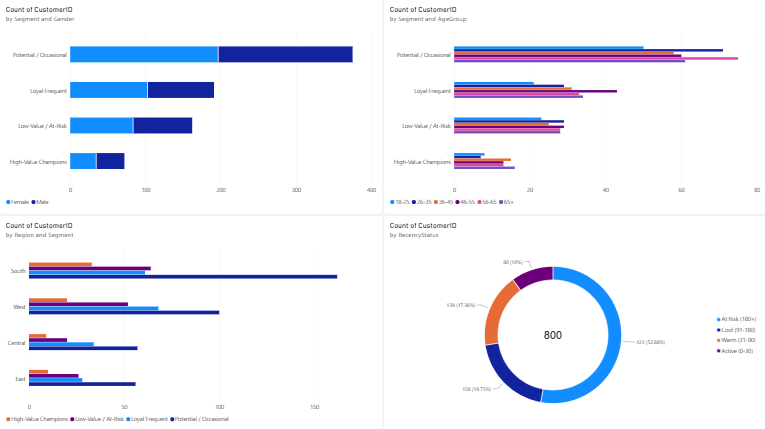

Layout of this report page (visuals, bound fields, positions):
{"tool":"powerbi","page":{"name":"Demographics & Behavior","canvas":[1920,1080],"ordinal":2},"visuals":[{"type":"barChart","fields":{"Category":["customer_segments.Segment"],"Series":["customer_segments.Gender"],"Y":["CountNonNull(customer_segments.CustomerID)"]},"box":[0,0,960,539.2],"z":0},{"type":"clusteredBarChart","fields":{"Category":["customer_segments.Segment"],"Series":["customer_segments.AgeGroup"],"Y":["CountNonNull(customer_segments.CustomerID)"]},"box":[960,0,960,539.2],"z":1000},{"type":"clusteredBarChart","fields":{"Category":["customer_segments.Region"],"Series":["customer_segments.Segment"],"Y":["CountNonNull(customer_segments.CustomerID)"]},"box":[0,539.2,960,541.7],"z":2000},{"type":"donutChart","fields":{"Category":["customer_segments.RecencyStatus"],"Y":["CountNonNull(customer_segments.CustomerID)"]},"box":[960,539.2,960,541.7],"z":3000}]}

Visuals, with their boxes in screenshot pixels (x1, y1, x2, y2), scaled from the page's 1920x1080 canvas onto the 765x429 screenshot:
barChart - customer_segments.Segment x customer_segments.Gender: rect(0, 0, 382, 214)
clusteredBarChart - customer_segments.Segment x customer_segments.AgeGroup: rect(382, 0, 764, 214)
clusteredBarChart - customer_segments.Region x customer_segments.Segment: rect(0, 214, 382, 428)
donutChart - customer_segments.RecencyStatus x CountNonNull(customer_segments.CustomerID): rect(382, 214, 764, 428)
